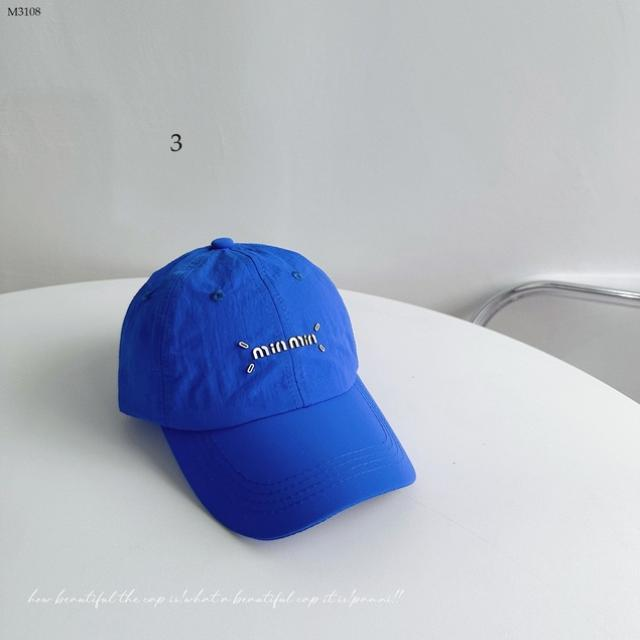no_helmet: (110, 233, 426, 544)
